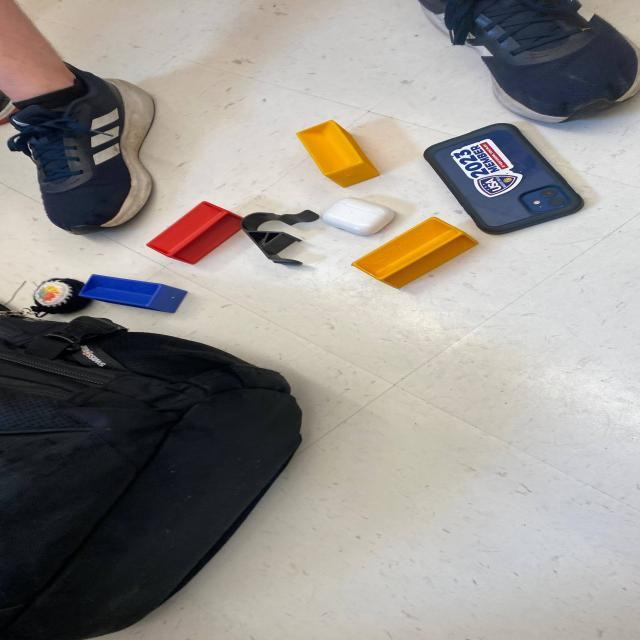blue-specimen: (76, 274, 188, 313)
red-specimen: (146, 201, 242, 265)
yellow-specimen: (352, 217, 479, 289), (296, 120, 380, 188)
